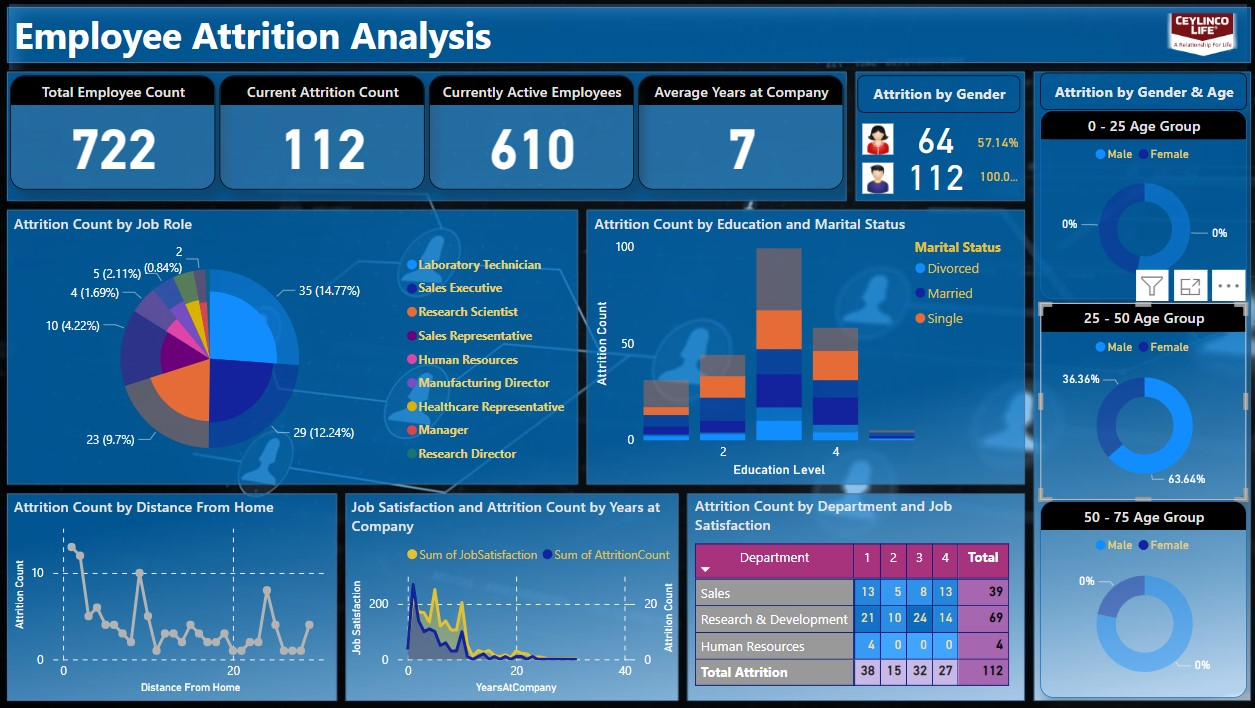

The page's visual inventory and layout, read from the dashboard file:
{"tool":"powerbi","page":{"name":"Page 1","canvas":[1280,720],"ordinal":0},"visuals":[{"type":"textbox","box":[9.9,4.3,1258.5,66.7],"z":0},{"type":"card","title":"Total Employee Count","fields":{"Values":["Sum(Employee Attrition.EmployeeCount)"]},"box":[11.4,76.6,208.6,116.3],"z":1000},{"type":"card","title":"Average Years at Company","fields":{"Values":["Employee Attrition.AverageYears"]},"box":[649.8,76.6,208.6,116.3],"z":2000},{"type":"card","title":"Current Attrition Count","fields":{"Values":["Sum(Employee Attrition.AttritionCount)"]},"box":[224.2,76.6,208.6,116.3],"z":3000},{"type":"card","title":"Currently Active Employees","fields":{"Values":["Employee Attrition.ActiveEmployees"]},"box":[437,76.6,208.6,116.3],"z":4000},{"type":"card","fields":{"Values":["Employee Attrition.FemaleAttritionCount"]},"box":[918,113.5,68.1,52.5],"z":5000},{"type":"card","fields":{"Values":["Employee Attrition.MaleAttritionCount"]},"box":[912.3,153.2,79.5,48.2],"z":6000},{"type":"card","fields":{"Values":["Employee Attrition.PerMaleAttrition"]},"box":[988.9,161.7,53.9,36.9],"z":7000},{"type":"card","fields":{"Values":["Employee Attrition.PerFemaleAttrition"]},"box":[980.6,129,69.4,33.1],"z":8000},{"type":"textbox","box":[873.1,76.1,165.4,38],"z":9000},{"type":"pieChart","title":"Attrition Count by Job Role","fields":{"Category":["Employee Attrition.JobRole"],"Y":["Sum(Employee Attrition.AttritionCount)"]},"box":[9.9,216.6,578.7,272.8],"z":10000},{"type":"columnChart","title":"Attrition Count by Education and Marital Status","fields":{"Category":["Employee Attrition.Education"],"Y":["Sum(Employee Attrition.AttritionCount)"],"Series":["Employee Attrition.MaritalStatus"]},"box":[600.2,217.1,438.4,272.4],"z":11000},{"type":"lineChart","title":"Attrition Count by Distance From Home","fields":{"Category":["Employee Attrition.DistanceFromHome"],"Y":["Sum(Employee Attrition.AttritionCount)"]},"box":[9.9,505.1,329.2,204.3],"z":12000},{"type":"areaChart","title":"Job Satisfaction and Attrition Count by Years at Company","fields":{"Y":["Sum(Employee Attrition.JobSatisfaction)"],"Y2":["Sum(Employee Attrition.AttritionCount)"],"Category":["Employee Attrition.YearsAtCompany"]},"box":[353.3,505.1,337.7,204.3],"z":13000},{"type":"pivotTable","title":"Attrition Count by Department and Job Satisfaction","fields":{"Rows":["Employee Attrition.Department"],"Columns":["Employee Attrition.JobSatisfaction"],"Values":["Sum(Employee Attrition.AttritionCount)"]},"box":[702.8,504.3,335.7,205],"z":14000},{"type":"image","box":[1177.6,8.5,90.8,56.8],"z":15000},{"type":"donutChart","title":"0 - 25 Age Group","fields":{"Category":["Employee Attrition.Gender"],"Series":["Employee Attrition.AgeBand"],"Y":["Sum(Employee Attrition.AttritionCount)"]},"box":[1058.3,112.4,210,191.8],"z":16000},{"type":"donutChart","title":"25 - 50 Age Group","fields":{"Category":["Employee Attrition.Gender"],"Series":["Employee Attrition.AgeBand"],"Y":["Sum(Employee Attrition.AttritionCount)"]},"box":[1058.5,306.5,210,200.1],"z":17000},{"type":"donutChart","title":"50 - 75 Age Group","fields":{"Category":["Employee Attrition.Gender"],"Series":["Employee Attrition.AgeBand"],"Y":["Sum(Employee Attrition.AttritionCount)"]},"box":[1058.3,509.3,210,200.1],"z":18000},{"type":"textbox","box":[1058.3,74.4,210,38],"z":19000},{"type":"image","box":[873.1,120.7,41.3,41.3],"z":20000},{"type":"image","box":[873.1,160.4,41.3,41.3],"z":21000}]}

Visuals, with their boxes in screenshot pixels (x1, y1, x2, y2), scaled from the page's 1280x720 canvas onto the 1255x708 screenshot:
textbox: region(10, 4, 1244, 70)
"Total Employee Count" card: region(11, 75, 216, 190)
"Average Years at Company" card: region(637, 75, 842, 190)
"Current Attrition Count" card: region(220, 75, 424, 190)
"Currently Active Employees" card: region(428, 75, 633, 190)
card - Employee Attrition.FemaleAttritionCount: region(900, 112, 967, 163)
card - Employee Attrition.MaleAttritionCount: region(894, 151, 972, 198)
card - Employee Attrition.PerMaleAttrition: region(970, 159, 1022, 195)
card - Employee Attrition.PerFemaleAttrition: region(961, 127, 1029, 159)
textbox: region(856, 75, 1018, 112)
"Attrition Count by Job Role" pieChart: region(10, 213, 577, 481)
"Attrition Count by Education and Marital Status" columnChart: region(588, 213, 1018, 481)
"Attrition Count by Distance From Home" lineChart: region(10, 497, 332, 698)
"Job Satisfaction and Attrition Count by Years at Company" areaChart: region(346, 497, 678, 698)
"Attrition Count by Department and Job Satisfaction" pivotTable: region(689, 496, 1018, 697)
image: region(1155, 8, 1244, 64)
"0 - 25 Age Group" donutChart: region(1038, 111, 1244, 299)
"25 - 50 Age Group" donutChart: region(1038, 301, 1244, 498)
"50 - 75 Age Group" donutChart: region(1038, 501, 1244, 698)
textbox: region(1038, 73, 1244, 111)
image: region(856, 119, 897, 159)
image: region(856, 158, 897, 198)
